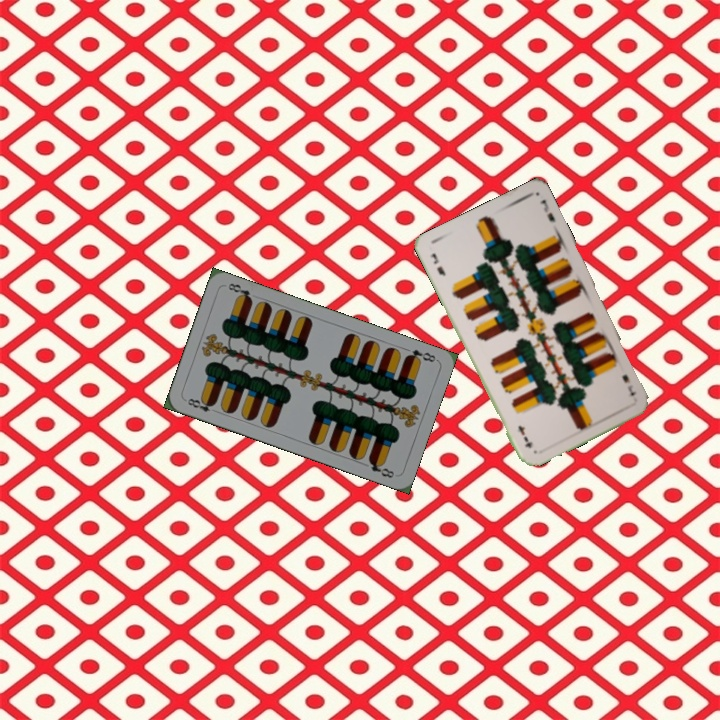E7: (426, 249, 448, 279), (618, 371, 639, 398)
E8: (181, 394, 218, 415), (401, 345, 438, 365)
